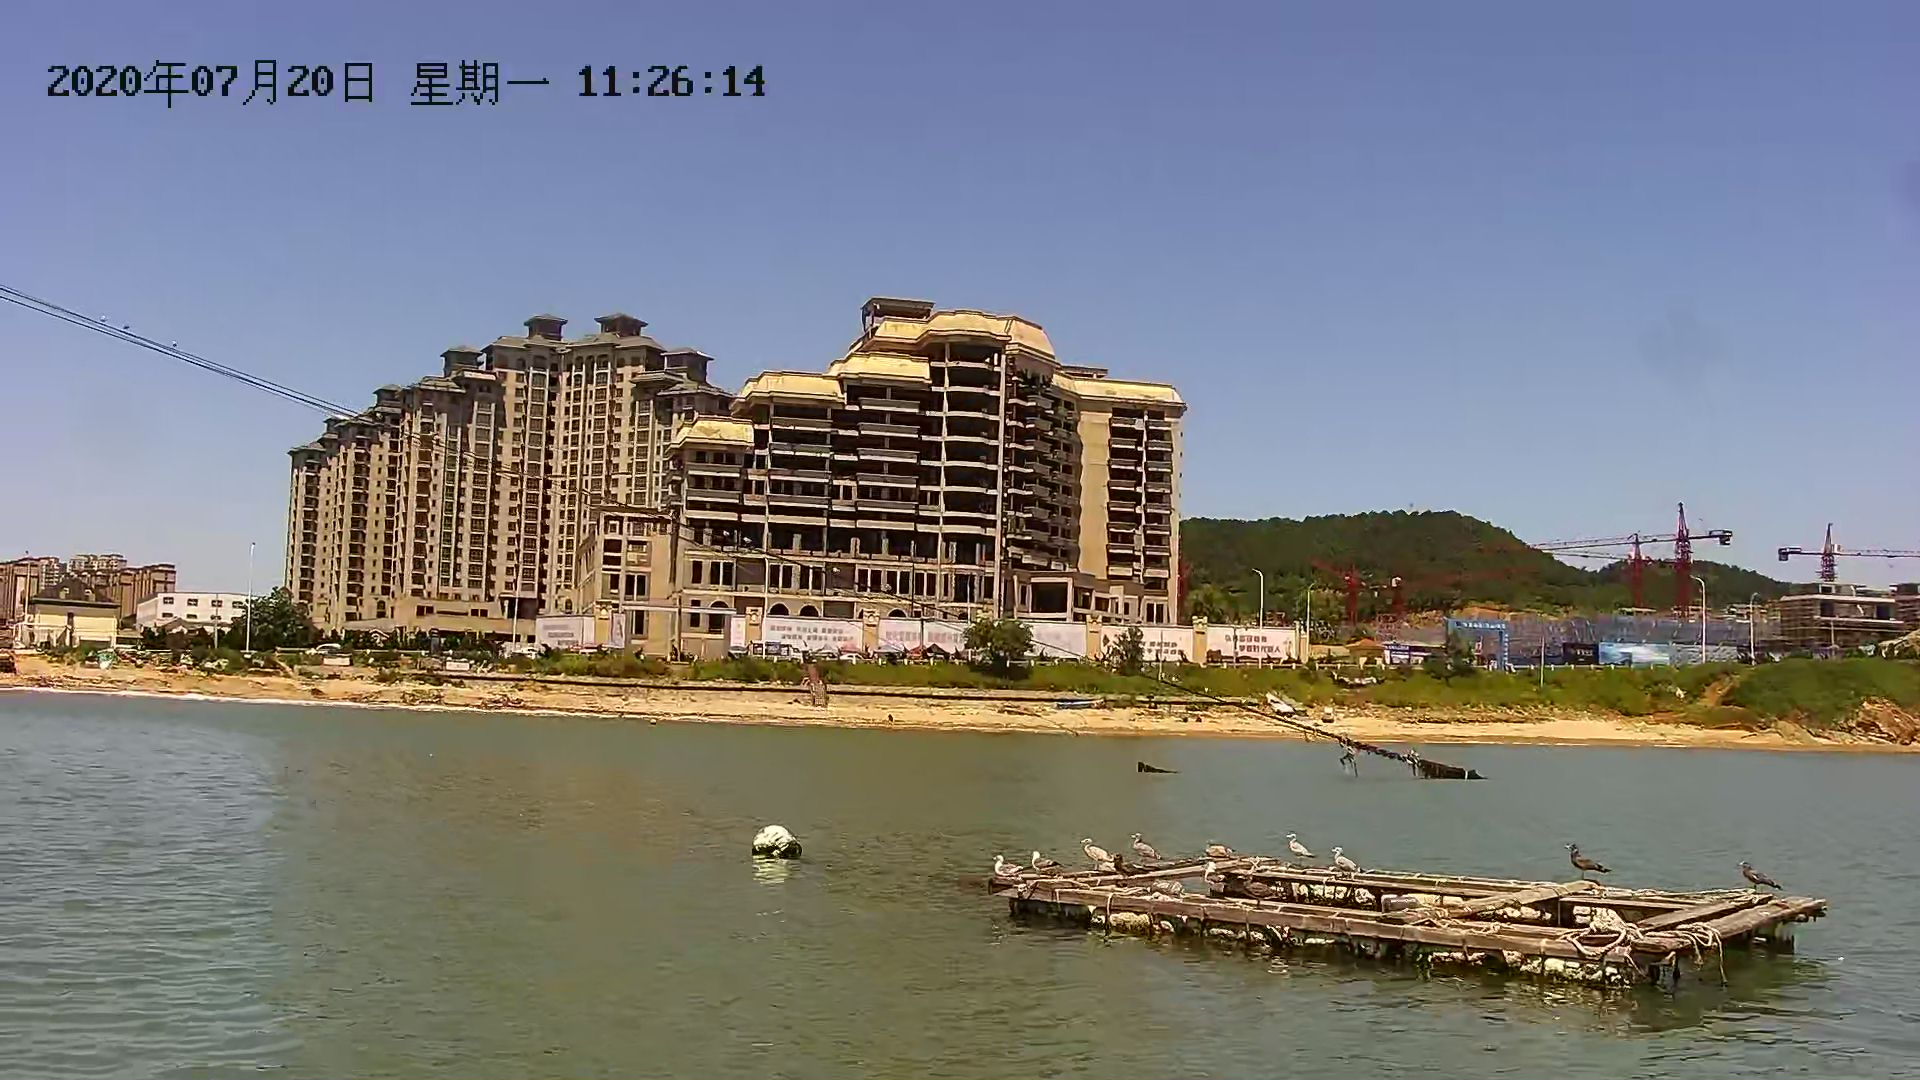ball: (744, 824, 810, 865)
platform: (996, 796, 1851, 1001)
